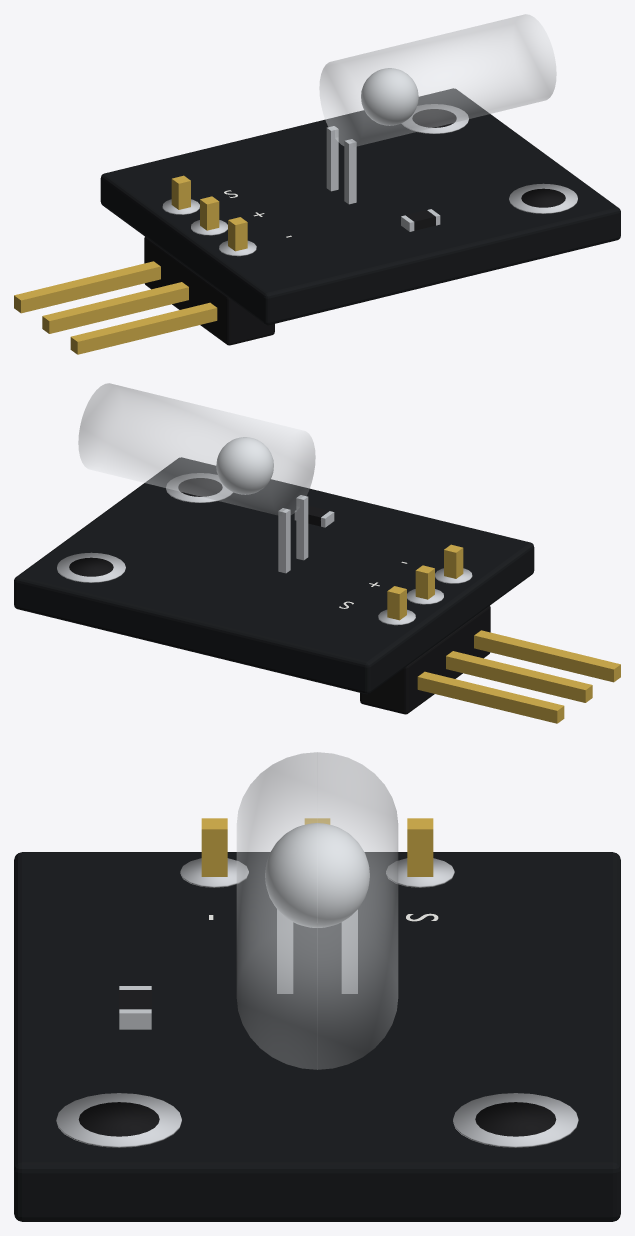
The model's file is mercury-switch.glb.
3 renders of one model, top to bottom at view 1: azimuth 30°, elevation 25°; view 2: azimuth 150°, elevation 25°; view 3: azimuth 270°, elevation 25°, orthographic. The views are drawn at different scales.
Visible parts, largest first — view 1: pcb.006, part.029, header.006, pin_h.020, pin_h.018, pin_h.019, part.030, hole_ring.013, hole_ring.012, part.031, part.032, hole.013 (+4 smaller); view 2: pcb.006, part.029, header.006, pin_h.018, pin_h.020, pin_h.019, part.030, hole_ring.012, hole_ring.013, part.032, part.031, hole.012 (+4 smaller); view 3: pcb.006, part.029, part.030, hole_ring.012, hole_ring.013, hole.012, hole.013, pin_v.018, pin_v.020, part.031, part.032, pad.018 (+3 smaller).
Boxes of the visible parts, x1,y1,x2,y2 form: pcb.006: (100,88,620,325); part.029: (319,14,556,146); header.006: (144,237,274,345); pin_h.020: (70,302,217,354); pin_h.018: (14,261,160,313); pin_h.019: (42,282,188,333); part.030: (361,68,418,125); hole_ring.013: (509,183,577,213); hole_ring.012: (401,104,468,133); part.031: (344,139,356,204); part.032: (326,126,338,191); hole.013: (521,188,565,207); pcb.006: (14,457,534,694); part.029: (78,383,315,515); header.006: (360,606,490,714); pin_h.018: (417,671,564,723); pin_h.020: (474,630,620,682); pin_h.019: (446,651,592,702); part.030: (216,437,273,494); hole_ring.012: (57,552,125,582); hole_ring.013: (166,473,233,502); part.032: (278,508,290,573); part.031: (296,495,308,560); hole.012: (69,557,113,576); pcb.006: (14,852,620,1221); part.029: (237,752,397,1069); part.030: (265,823,369,927); hole_ring.012: (453,1093,578,1147); hole_ring.013: (56,1093,181,1147); hole.012: (475,1102,556,1136); hole.013: (78,1102,159,1136); pin_v.018: (407,818,433,876); pin_v.020: (201,818,227,876); part.031: (277,909,293,993); part.032: (341,909,357,993); pad.018: (386,858,454,887).
Bounding box in the file's own units: 0.0256 × 0.0106 × 0.015.
